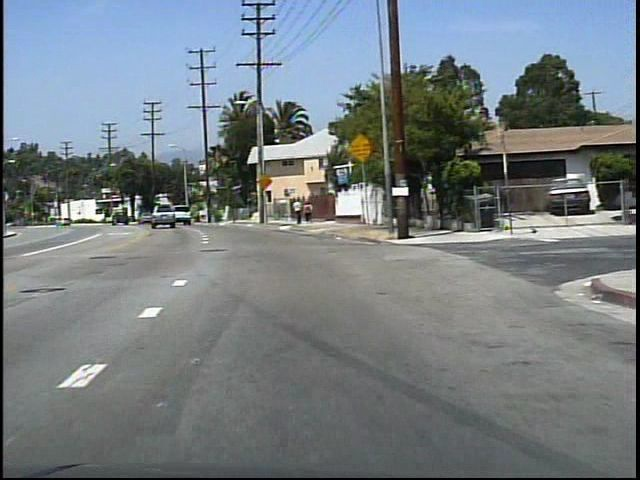person: (291, 196, 304, 224), (303, 197, 314, 223)
